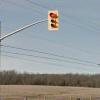Traffic light: (42, 7, 70, 39)
